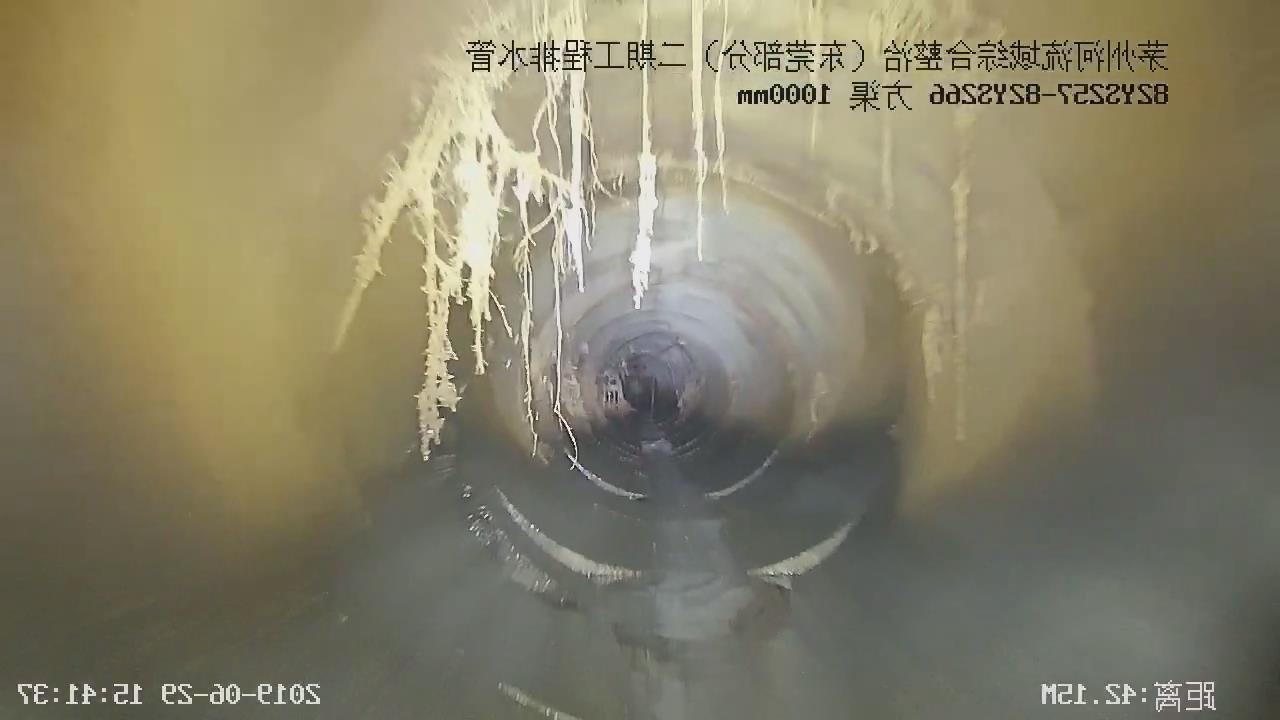SG: (358, 0, 1169, 451)
